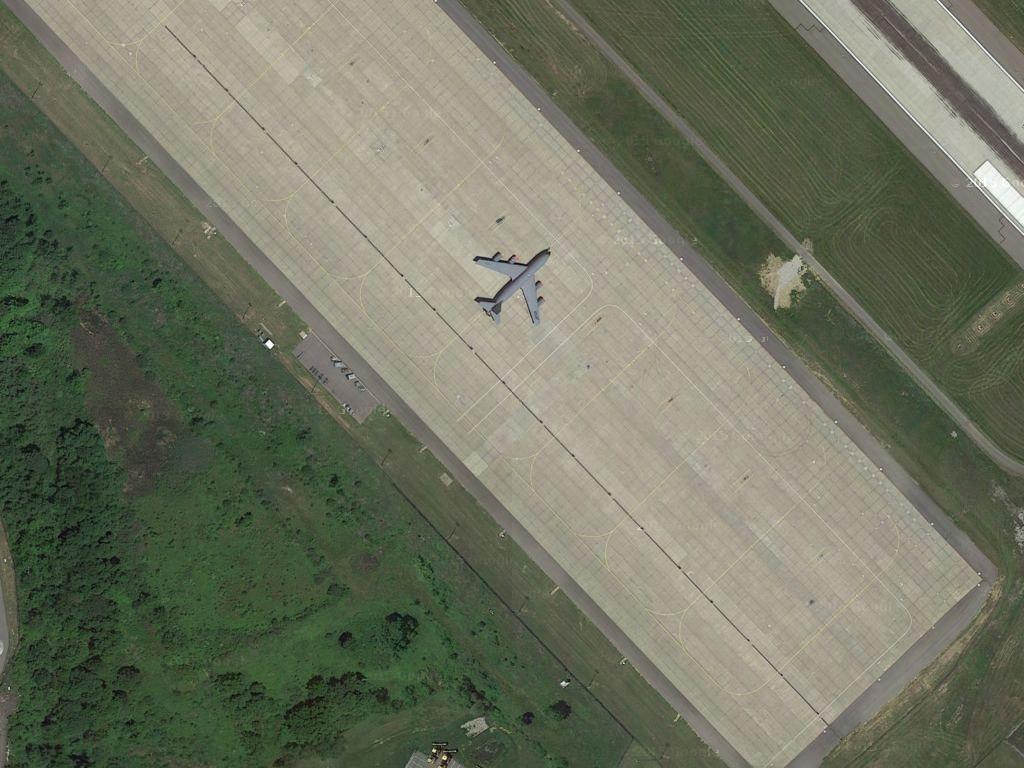KC-135: (469, 245, 555, 329)
